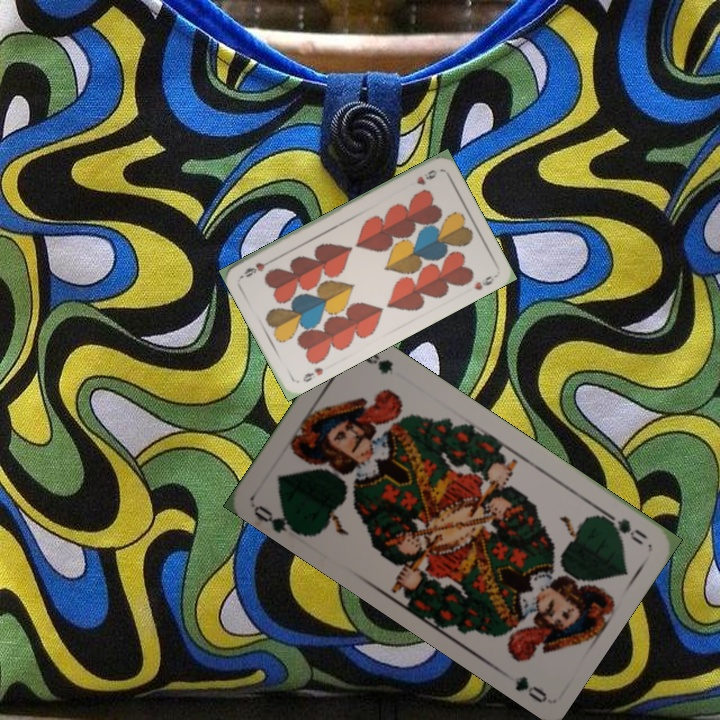GO: (595, 506, 650, 548), (249, 501, 305, 538)
H9: (412, 166, 440, 188), (299, 363, 326, 385)
